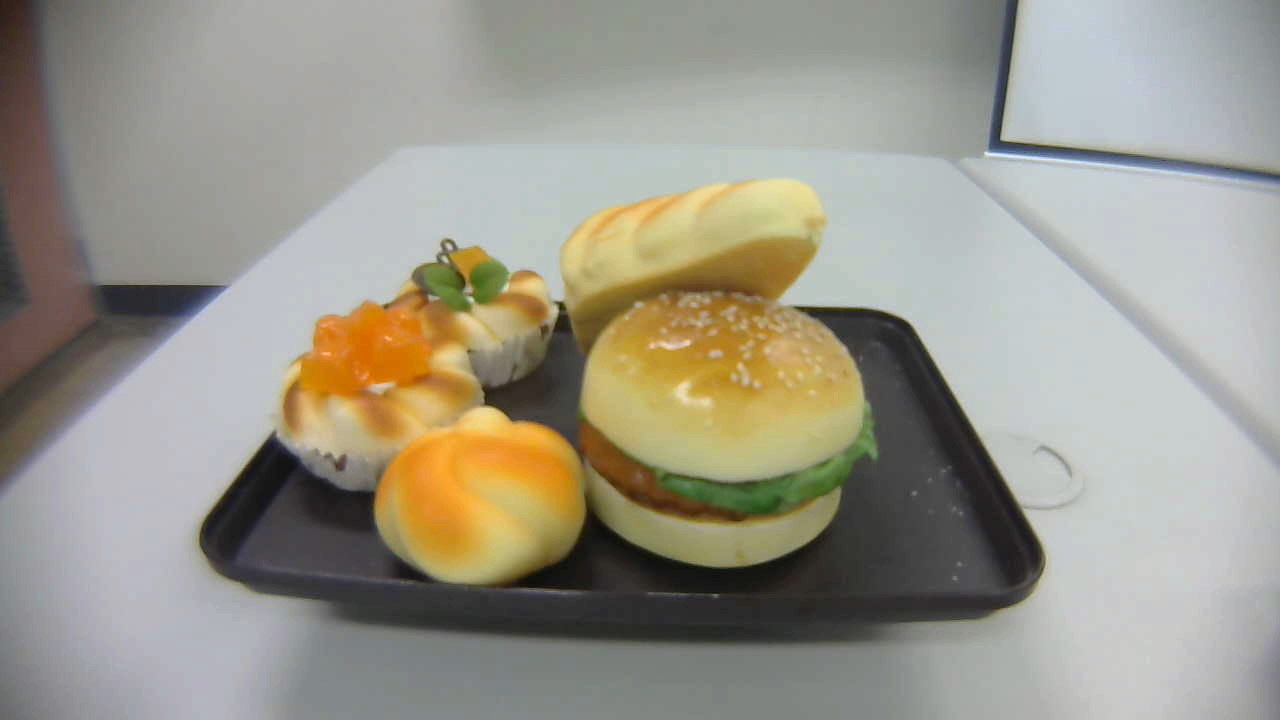croissant: (560, 176, 832, 367)
fruit tart: (386, 236, 560, 390)
hamburger: (578, 287, 877, 566)
mango tart: (274, 299, 485, 494)
twist bread: (373, 405, 587, 583)
